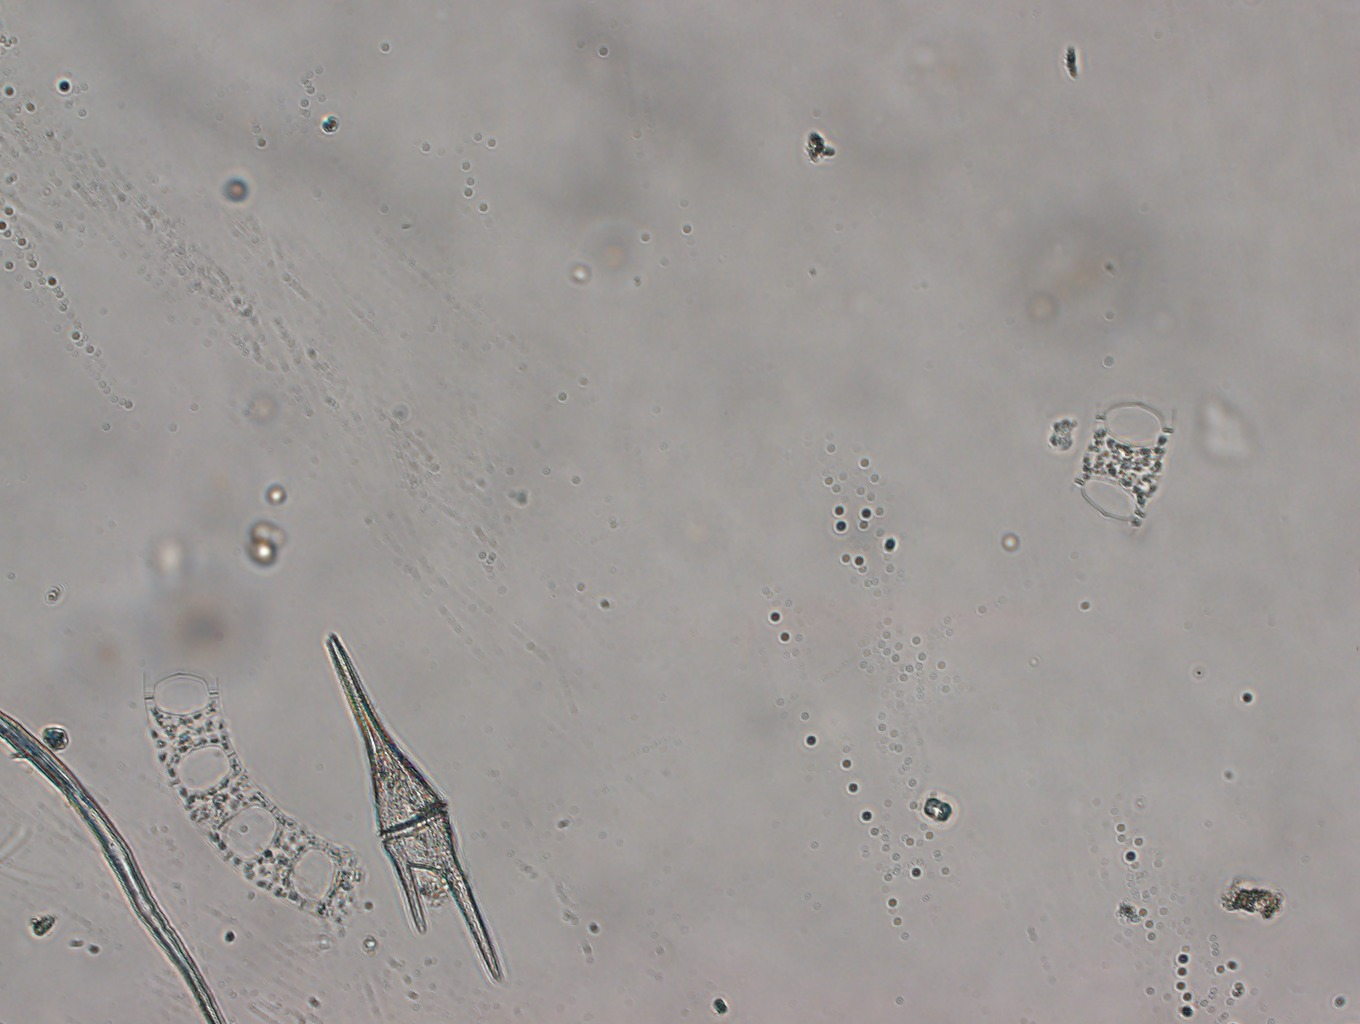ceratium furca: (320, 628, 507, 985)
eucampia: (134, 662, 374, 933), (1065, 381, 1179, 539)
